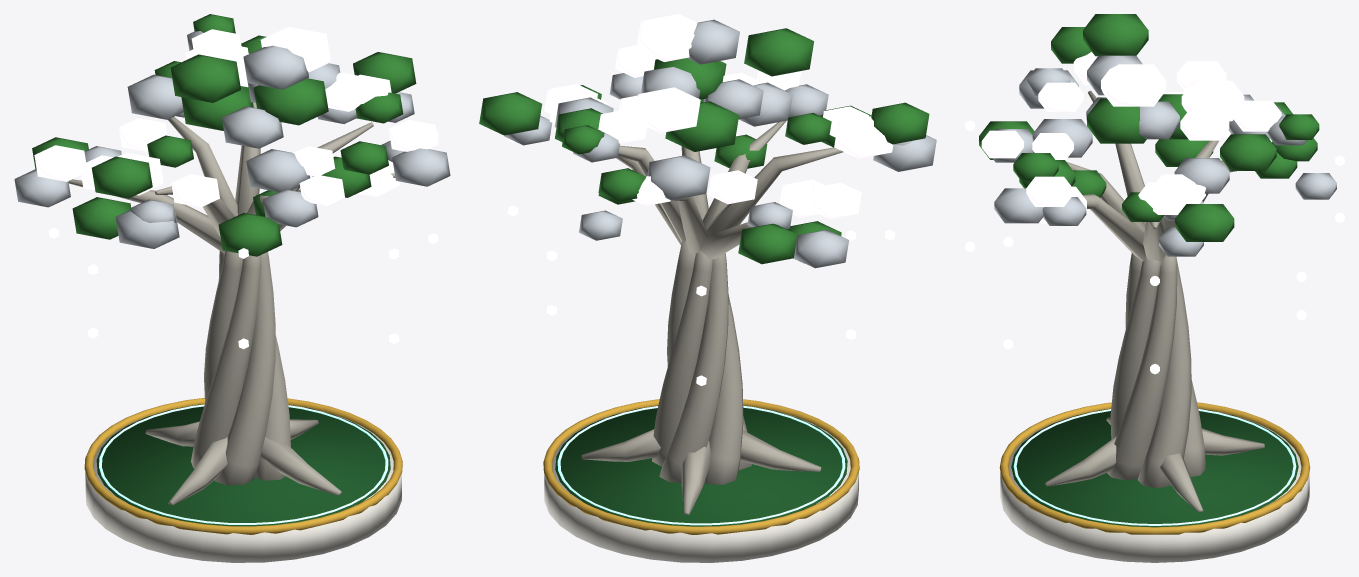
The model's file is elven-tree.glb.
3 views of the same model, side by side, from view 1: azimuth 30°, elevation 25°; view 2: azimuth 150°, elevation 25°; view 3: azimuth 270°, elevation 25° (orthographic). The views are drawn at different scales.
Visible parts, largest first — view 1: Model Mesh; view 2: Model Mesh; view 3: Model Mesh.
Boxes of the visible parts, <box> form: Model Mesh: <box>14,14,450,562</box>; Model Mesh: <box>479,14,936,562</box>; Model Mesh: <box>979,14,1336,562</box>.
Bounding box in the file's own units: 5.94 × 6.83 × 5.16.
